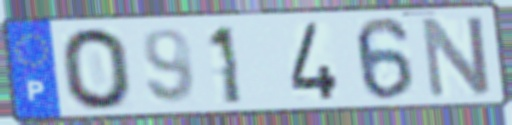1: (205, 22, 246, 106)
4: (288, 20, 341, 102)
6: (352, 15, 417, 103)
9: (139, 26, 199, 106)
N: (418, 13, 495, 102)
O: (57, 25, 136, 113)
